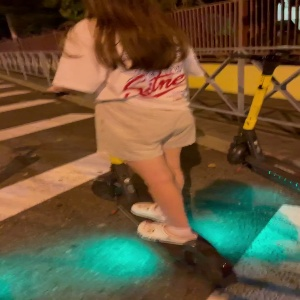human on a scooter: (49, 1, 239, 290)
